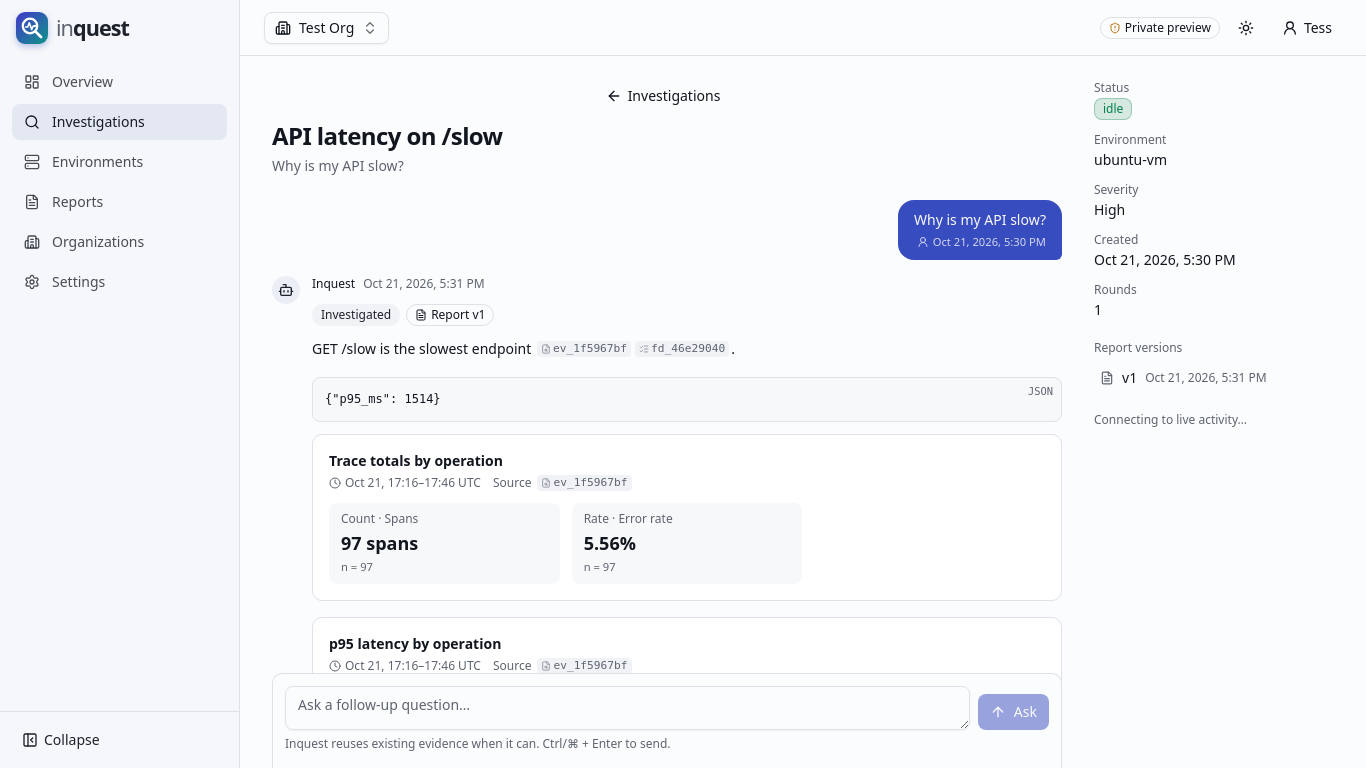
Scenario: conversation › keeps the question and explains a refused follow-up
In the text box labelled "follow-up question": [627, 708] box [285,686,970,730], type "Still slow?"
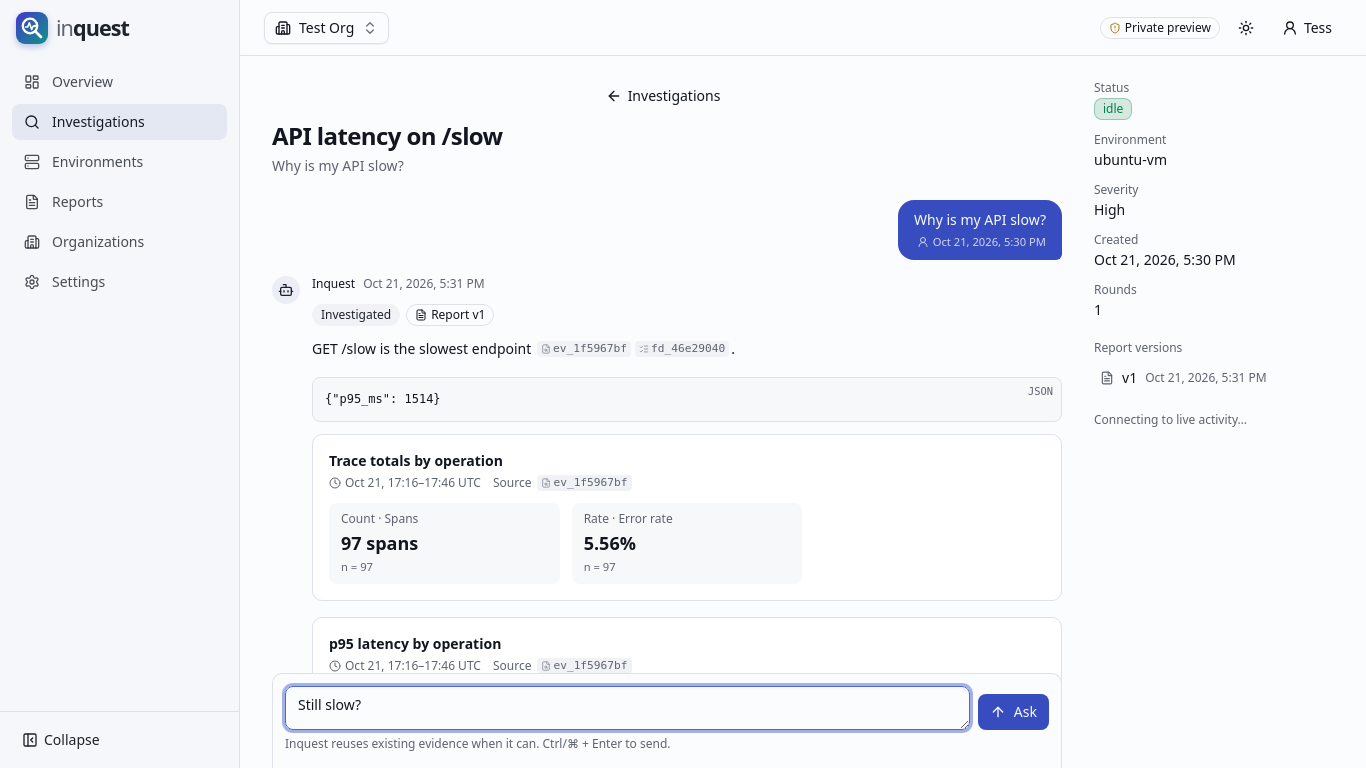
Click the button with aria-label "Send follow-up": [1013, 712] box [978,694,1049,730]
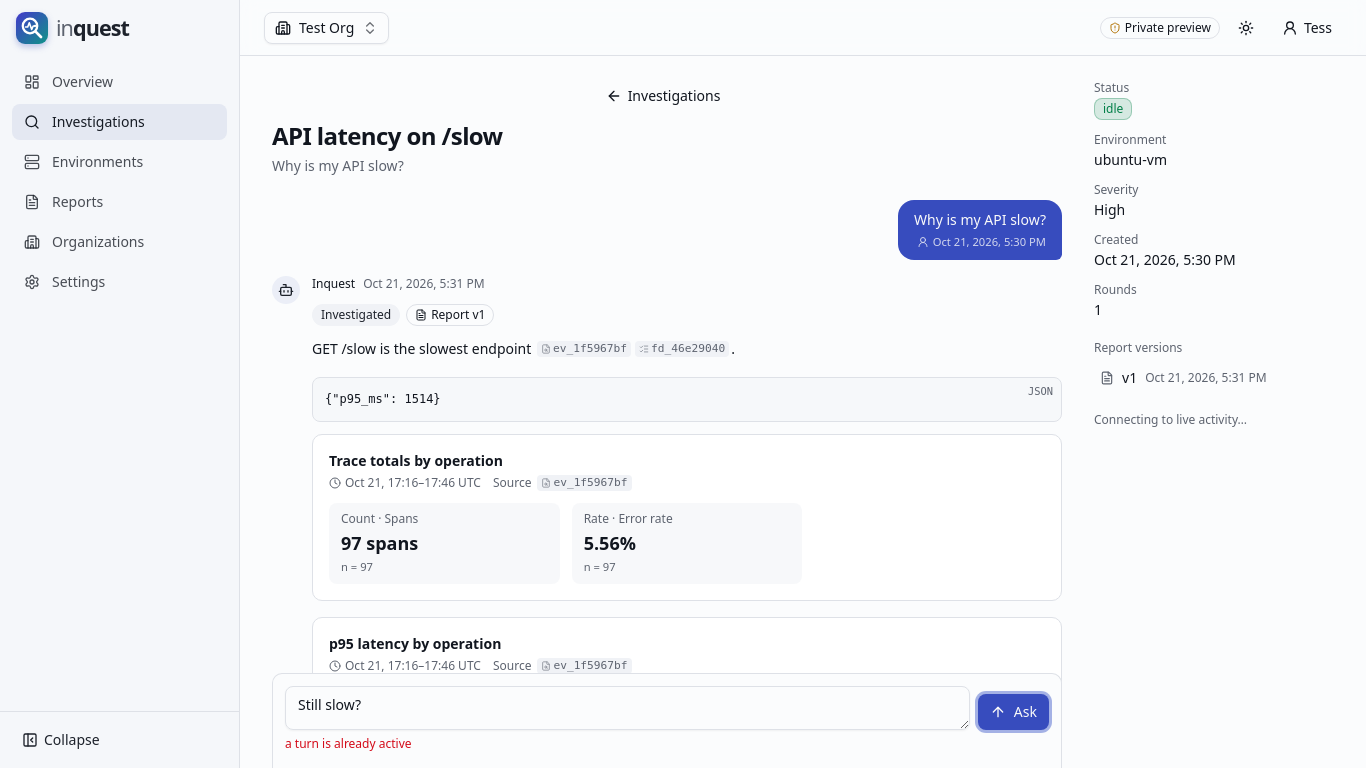
Expected: the text "a turn is already active" is shown, [285,735,412,752]
